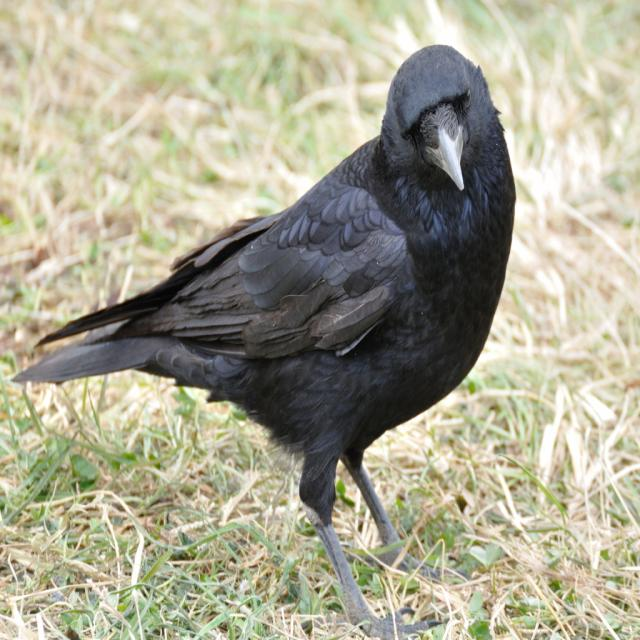bird: (22, 36, 538, 640)
